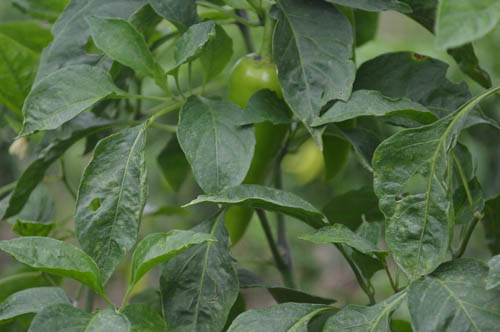ChiliPepper: (218, 55, 294, 252)
